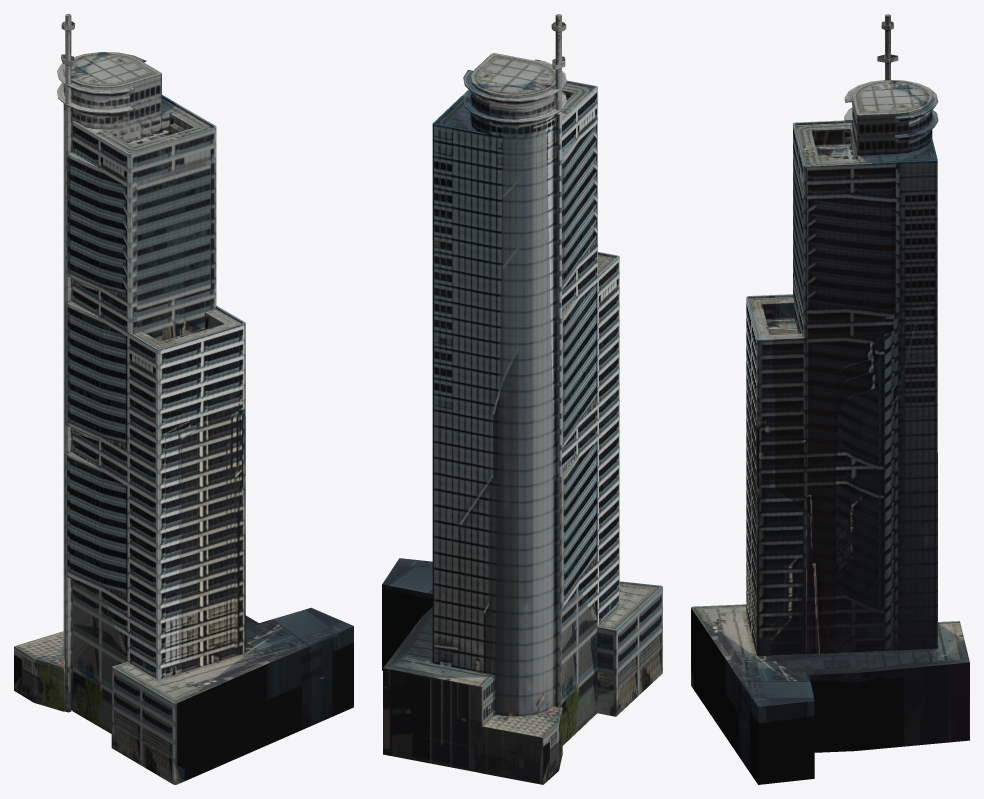
The picture shows the model from 3 angles, left to right: view 1: azimuth 30°, elevation 25°; view 2: azimuth 150°, elevation 25°; view 3: azimuth 270°, elevation 25°; orthographic projection. The views are drawn at different scales.
Visible parts, largest first — view 1: 19_0.glb; view 2: 19_0.glb; view 3: 19_0.glb.
Part boxes in pixels (x1,y1,x2,y2): 19_0.glb: (14,14,353,784); 19_0.glb: (382,14,662,784); 19_0.glb: (691,14,969,784).
Bounding box in the file's own units: 63.2 × 177 × 66.91.
3 materials, 2 textured.
